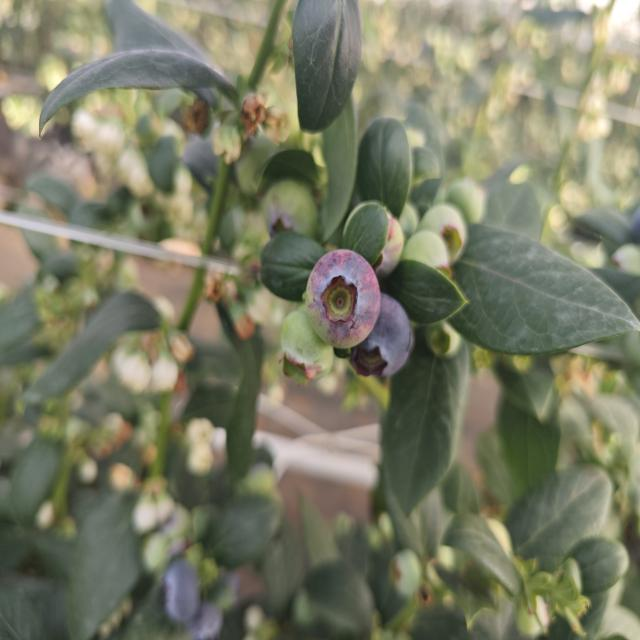ripe: (303, 246, 382, 352), (348, 291, 414, 383), (161, 552, 220, 640)
